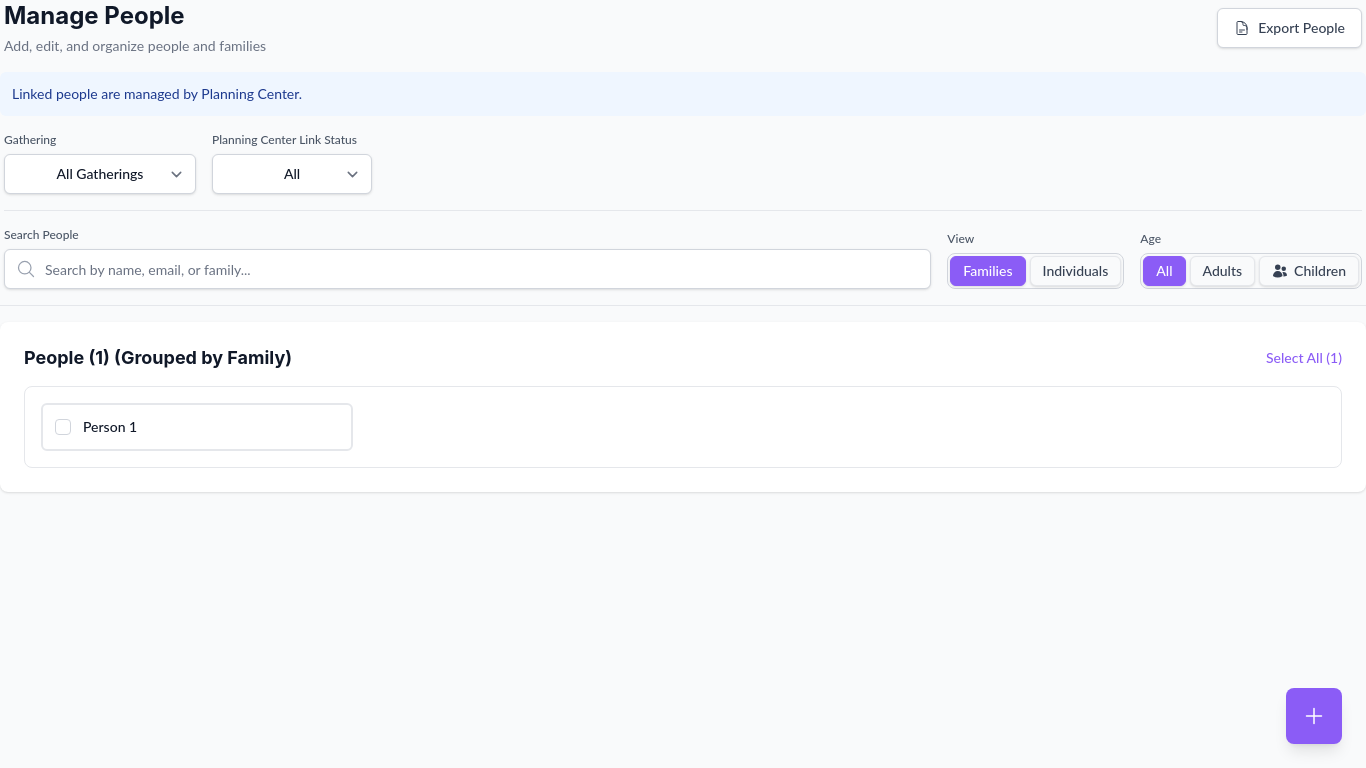
Test: PeoplePage external source filter › keeps editing available without a provider notice for an unlinked person
Click the text "Person 1": (110, 427) top-left (83, 417), bottom-right (137, 437)
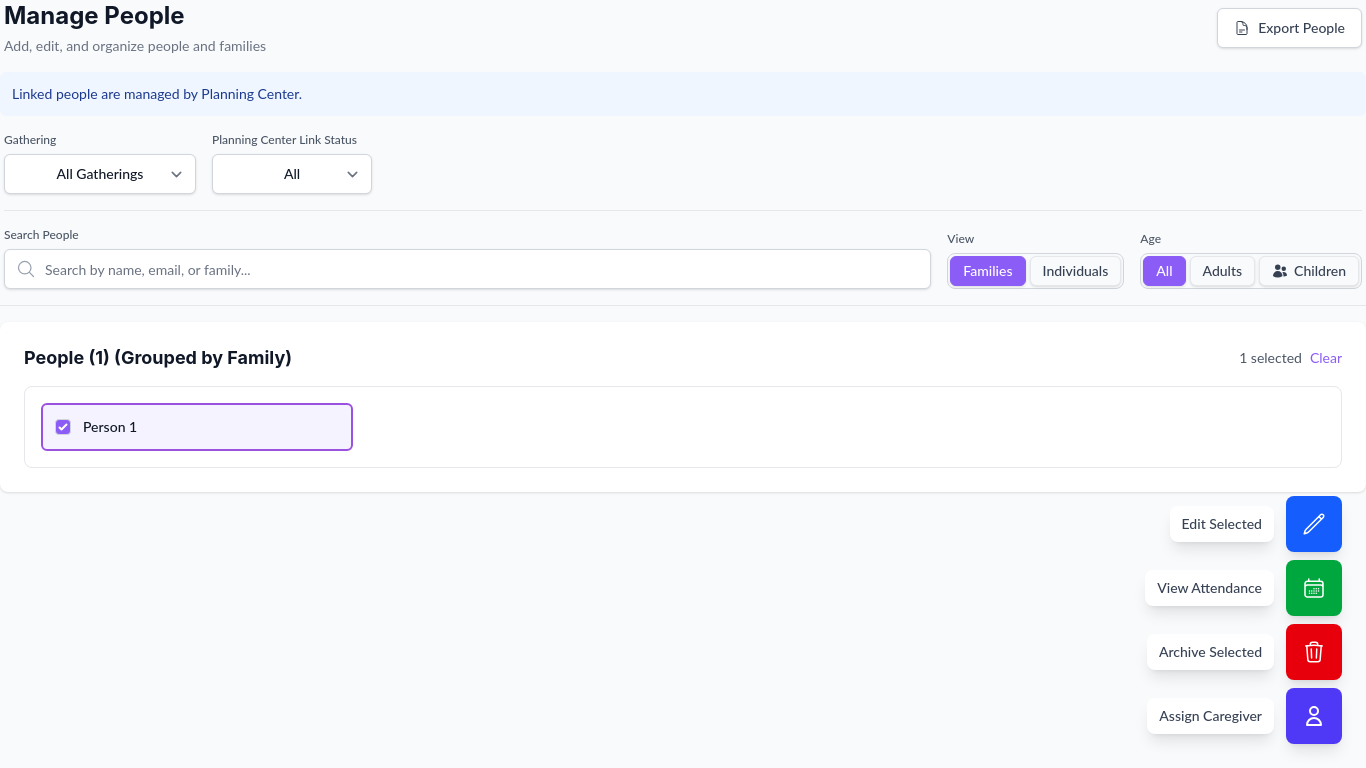
Click the button titled "Edit Selected": (1314, 524) top-left (1286, 496), bottom-right (1342, 552)
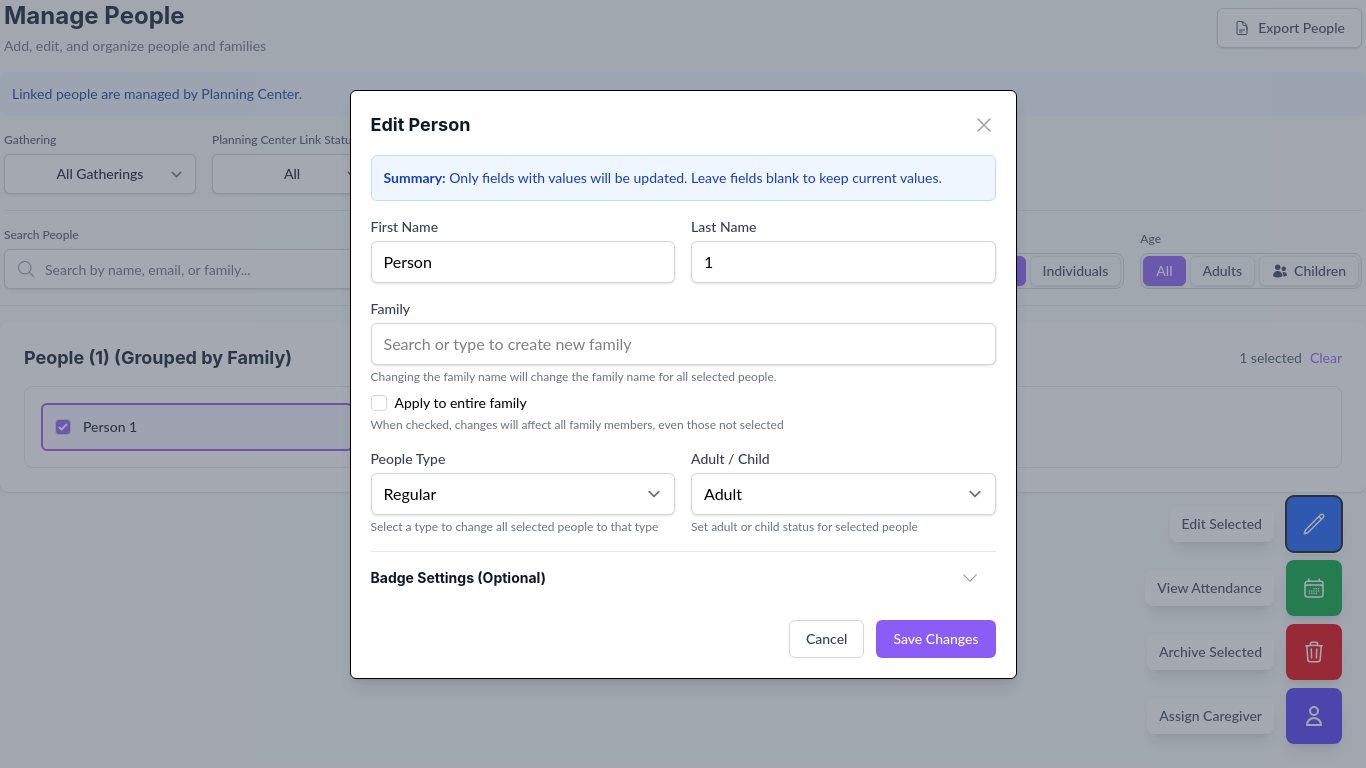
Check: the field with placeholder "Enter first name" below "First Name" is enabled, box top-left (370, 240), bottom-right (675, 282)
